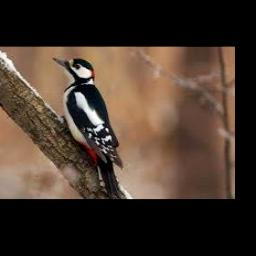Woodpecker: (52, 57, 122, 199)
